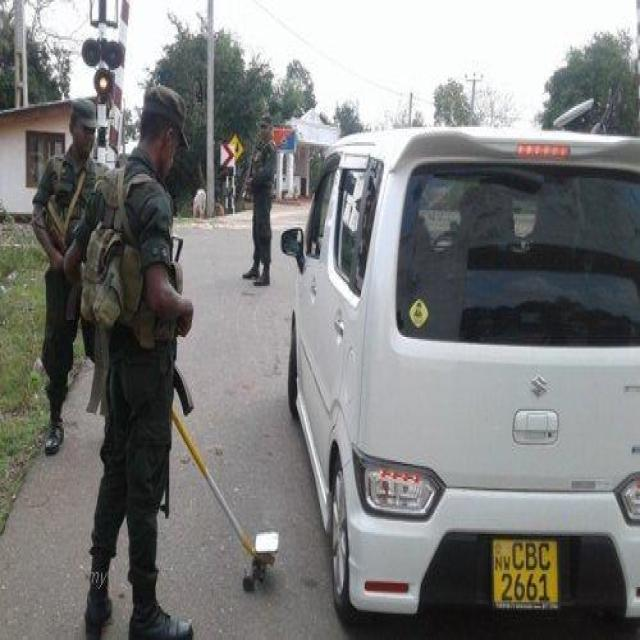license-plate: (490, 536, 557, 598)
